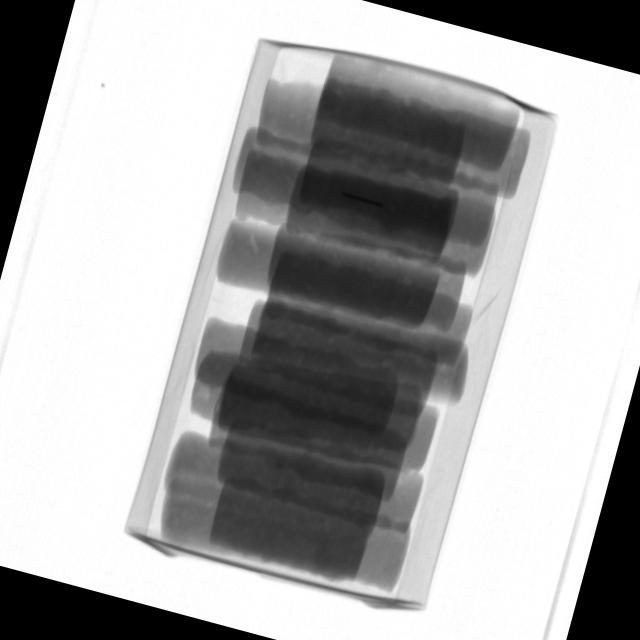ym: (340, 190, 385, 212)
